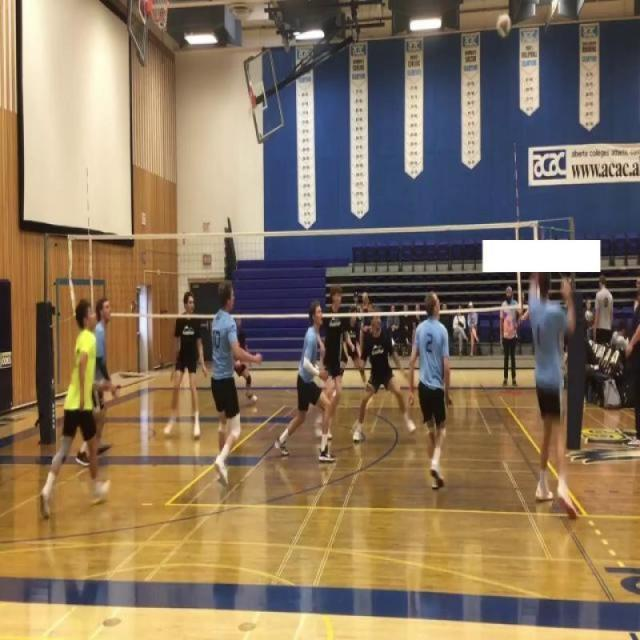volleyball: (496, 12, 512, 40)
